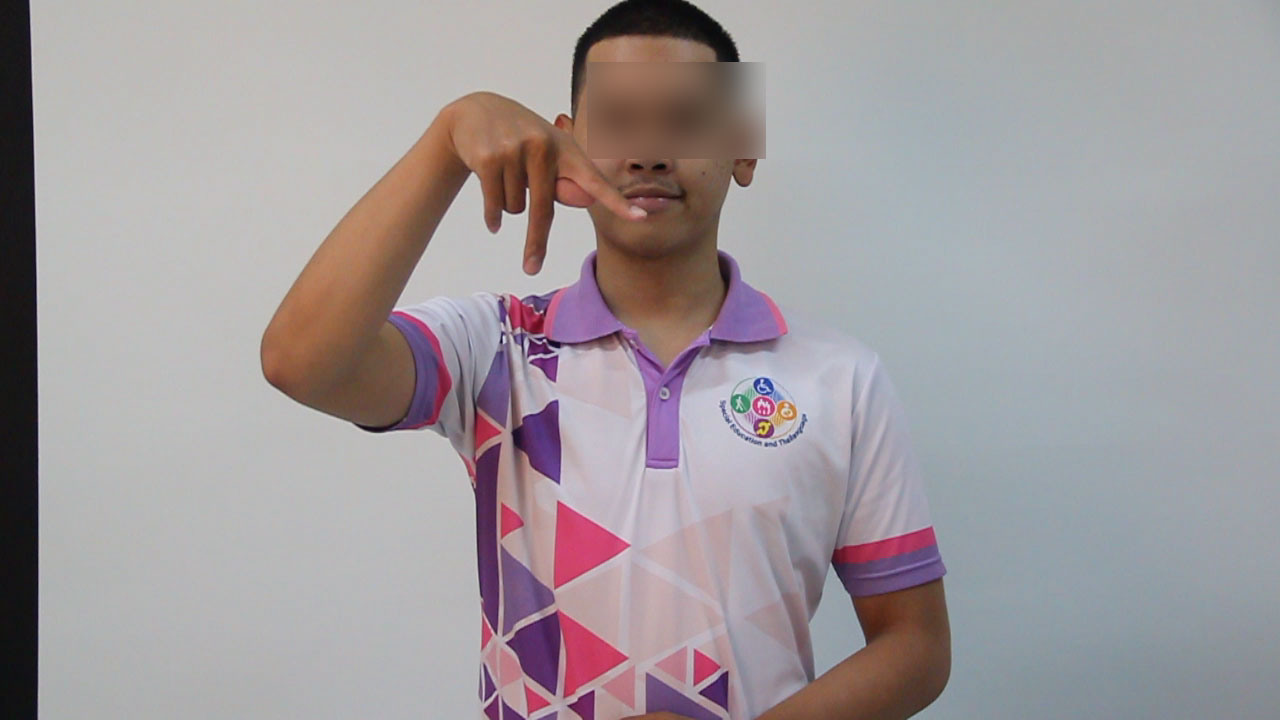por: (423, 69, 657, 281)
